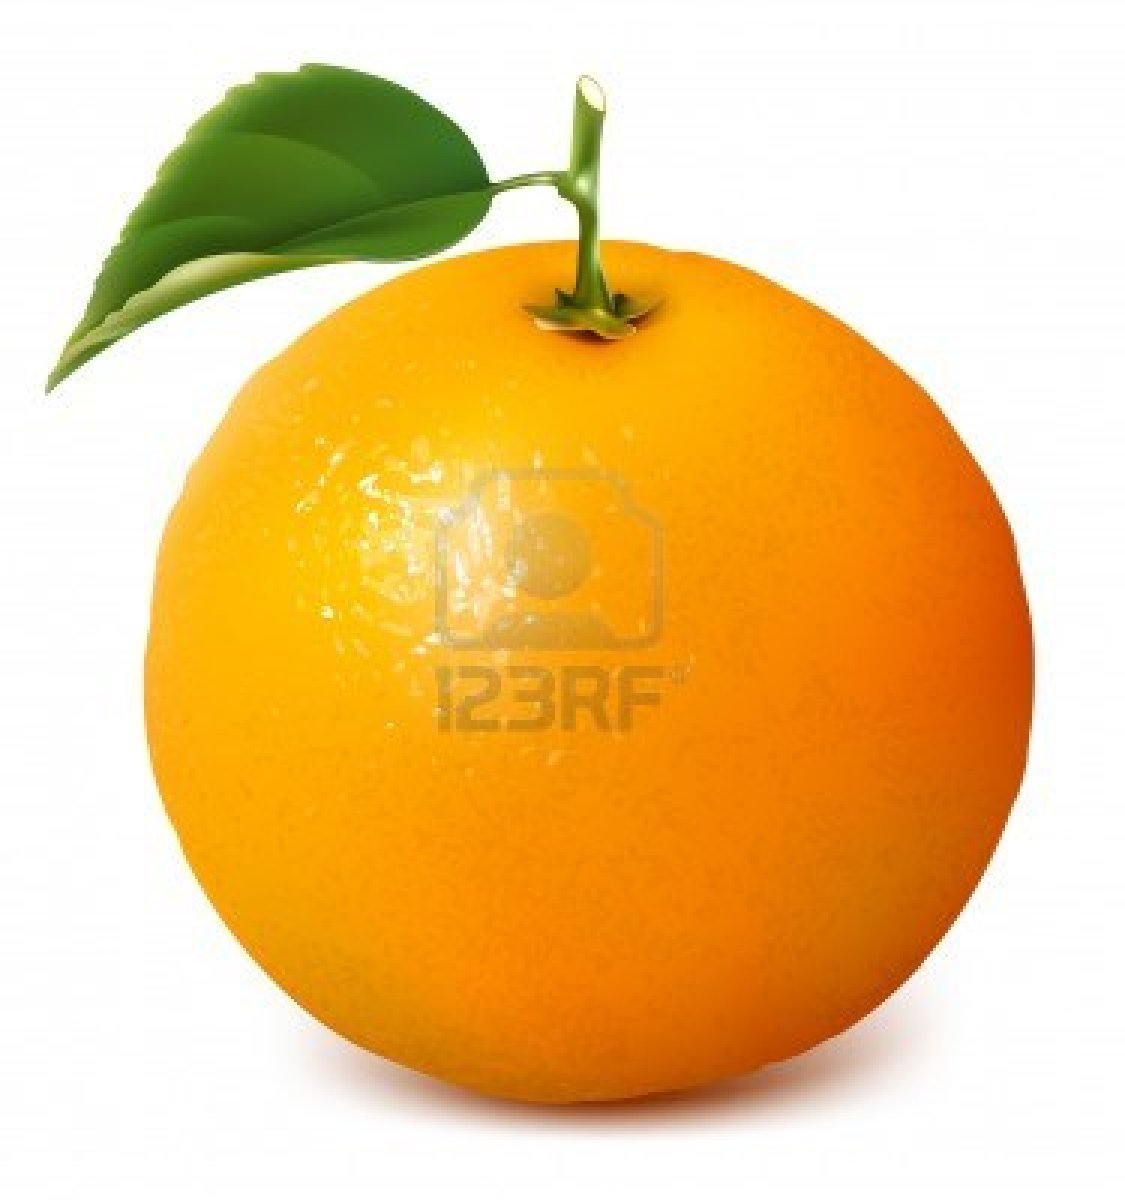orange: (159, 154, 1056, 1145)
